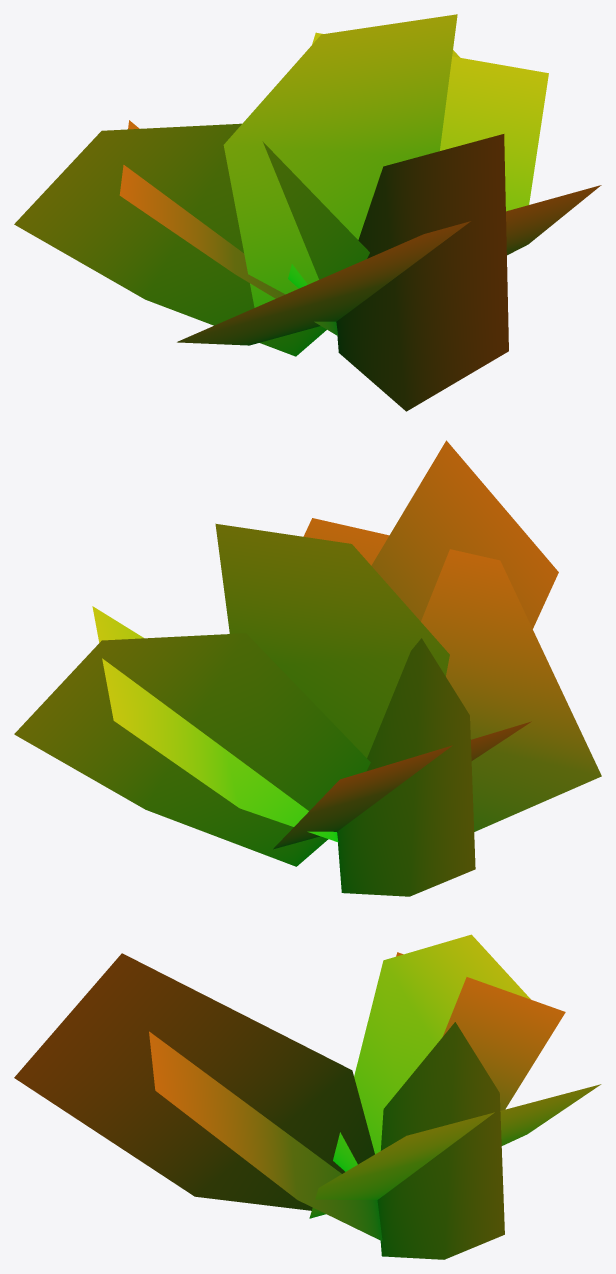
File: Seaweed_LOD1_Var1_sdokF.fbx
3 views of the same model, one above another, from view 1: azimuth 30°, elevation 25°; view 2: azimuth 150°, elevation 25°; view 3: azimuth 270°, elevation 25° (orthographic). The views are drawn at different scales.
Parts seen in each view (by area): view 1: merge1; view 2: merge1; view 3: merge1.
Boxes of the visible parts, x1,y1,x2,y2 form: merge1: (14, 14, 601, 411); merge1: (14, 440, 601, 896); merge1: (14, 934, 601, 1259).
Bounding box in the file's own units: 41.28 × 27.2 × 47.14.
